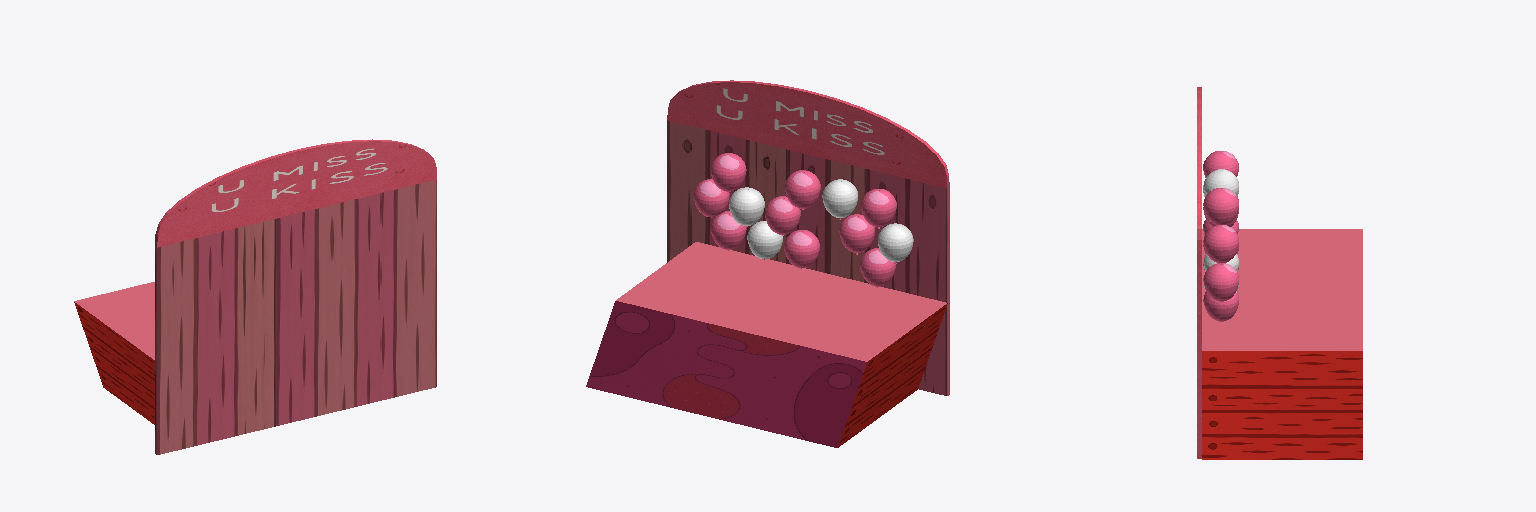
The picture shows the model from 3 angles: view 1: azimuth 30°, elevation 25°; view 2: azimuth 150°, elevation 25°; view 3: azimuth 270°, elevation 25°; orthographic projection.
Parts seen in each view (by area): view 1: tableroasGlobos, cajonGlobos; view 2: cajonGlobos, tableroasGlobos, globos; view 3: cajonGlobos, globos, tableroasGlobos.
Part boxes in pixels (x1,y1,x2,y2): tableroasGlobos: (155,139,436,454); cajonGlobos: (74,282,154,424); cajonGlobos: (586,242,947,447); tableroasGlobos: (667,80,949,395); globos: (694,153,913,287); cajonGlobos: (1202,229,1362,459); globos: (1203,151,1238,321); tableroasGlobos: (1197,87,1201,458).
Bounding box in the file's own units: 10.84 × 9.93 × 5.54.
4 materials, 4 textured.